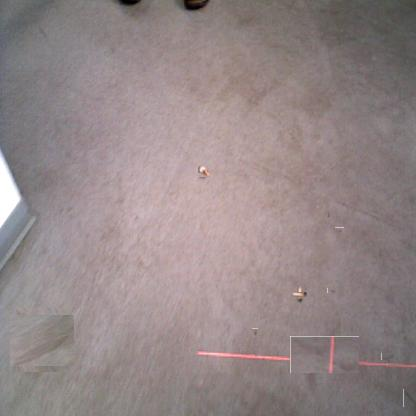dirty: (198, 164, 210, 178), (294, 289, 305, 299)
mark: (13, 311, 71, 369), (298, 328, 351, 381), (403, 389, 416, 407), (382, 351, 393, 362), (329, 286, 337, 295), (335, 227, 344, 235), (324, 211, 332, 219), (252, 328, 258, 337)
